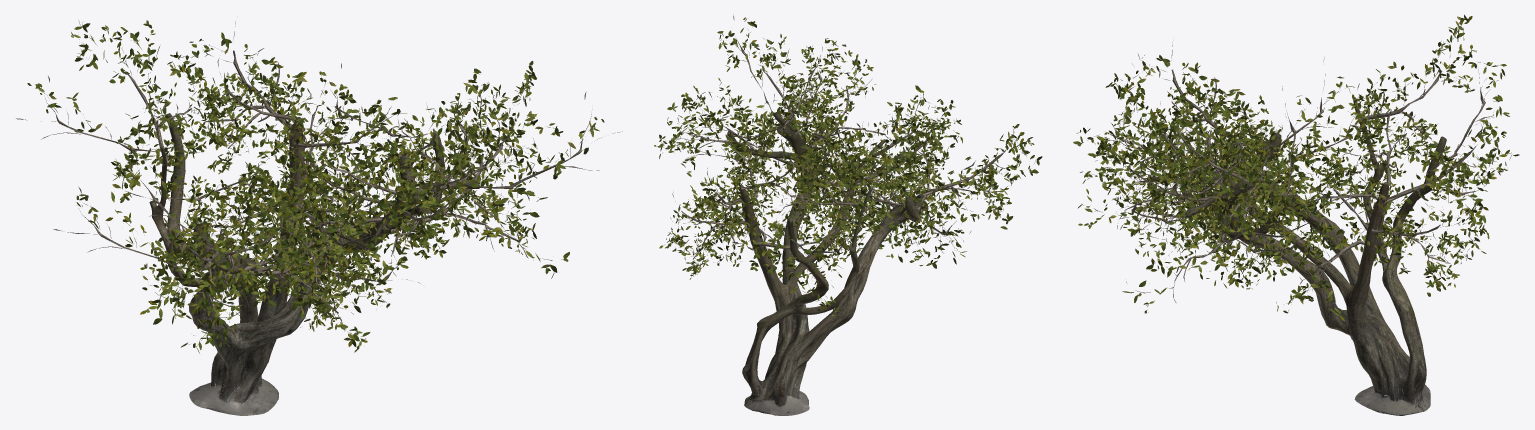
Rendered from tree_small.gltf.
3 views of the same model, side by side, from view 1: azimuth 30°, elevation 25°; view 2: azimuth 150°, elevation 25°; view 3: azimuth 270°, elevation 25° (orthographic). The views are drawn at different scales.
Visible parts, largest first — view 1: island_tree_02_LOD0; view 2: island_tree_02_LOD0; view 3: island_tree_02_LOD0.
Part boxes in pixels (<box>): island_tree_02_LOD0: <box>16,20,622,415</box>; island_tree_02_LOD0: <box>654,14,1042,415</box>; island_tree_02_LOD0: <box>1073,14,1519,415</box>.
Size of the model in its own units: 4.2 by 3.39 by 4.11.
